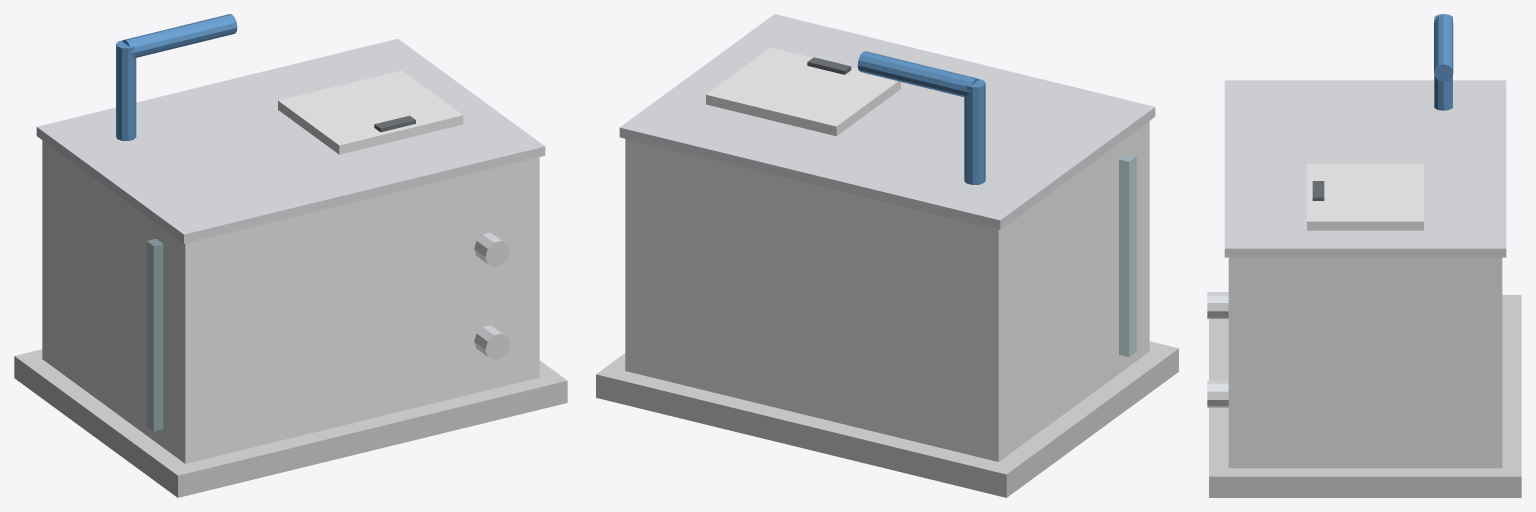
Rendered from vertical-farm-and-hydroponics-tower-vertical-farm-and--570998b9__38367.glb.
3 views of the same model, side by side, from view 1: azimuth 30°, elevation 25°; view 2: azimuth 150°, elevation 25°; view 3: azimuth 270°, elevation 25° (orthographic). The views are drawn at different scales.
Visible parts, largest first — view 1: vertical-farm-and-hydroponics-tower-reservoir-tank, lid-reservoir/panel; view 2: vertical-farm-and-hydroponics-tower-reservoir-tank, lid-reservoir/panel; view 3: vertical-farm-and-hydroponics-tower-reservoir-tank, lid-reservoir/panel.
Boxes of the visible parts, left/top/right/bottom form: vertical-farm-and-hydroponics-tower-reservoir-tank: left=14, top=14, right=567, bottom=497; lid-reservoir/panel: left=278, top=70, right=463, bottom=154; vertical-farm-and-hydroponics-tower-reservoir-tank: left=596, top=14, right=1178, bottom=497; lid-reservoir/panel: left=706, top=47, right=900, bottom=136; vertical-farm-and-hydroponics-tower-reservoir-tank: left=1207, top=14, right=1521, bottom=497; lid-reservoir/panel: left=1307, top=164, right=1423, bottom=230.
Bounding box in the file's own units: 2.2 × 1.89 × 1.61.
